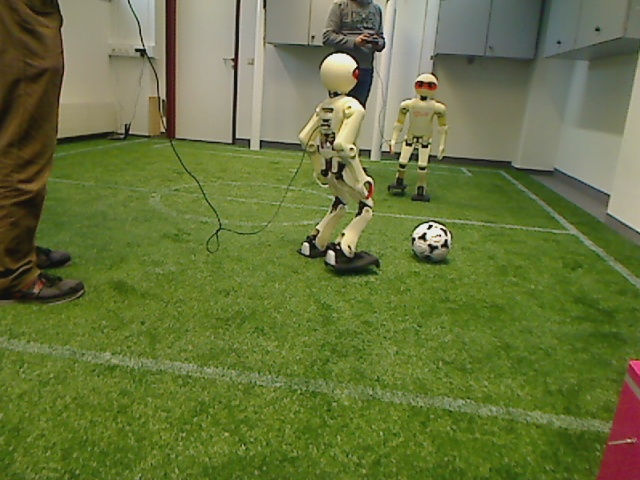ball: (408, 218, 454, 265)
robot: (296, 51, 384, 278), (384, 73, 451, 206)
